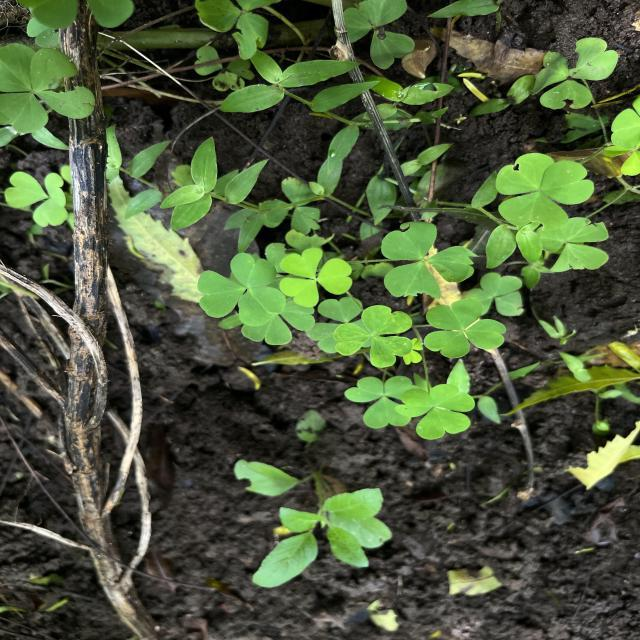Oxalis corniculata: (0, 41, 97, 134), (494, 152, 595, 234), (378, 220, 476, 302), (196, 251, 286, 328), (422, 299, 508, 362), (332, 304, 415, 368), (391, 382, 476, 440), (278, 248, 354, 307), (534, 217, 610, 274), (342, 376, 411, 431)
